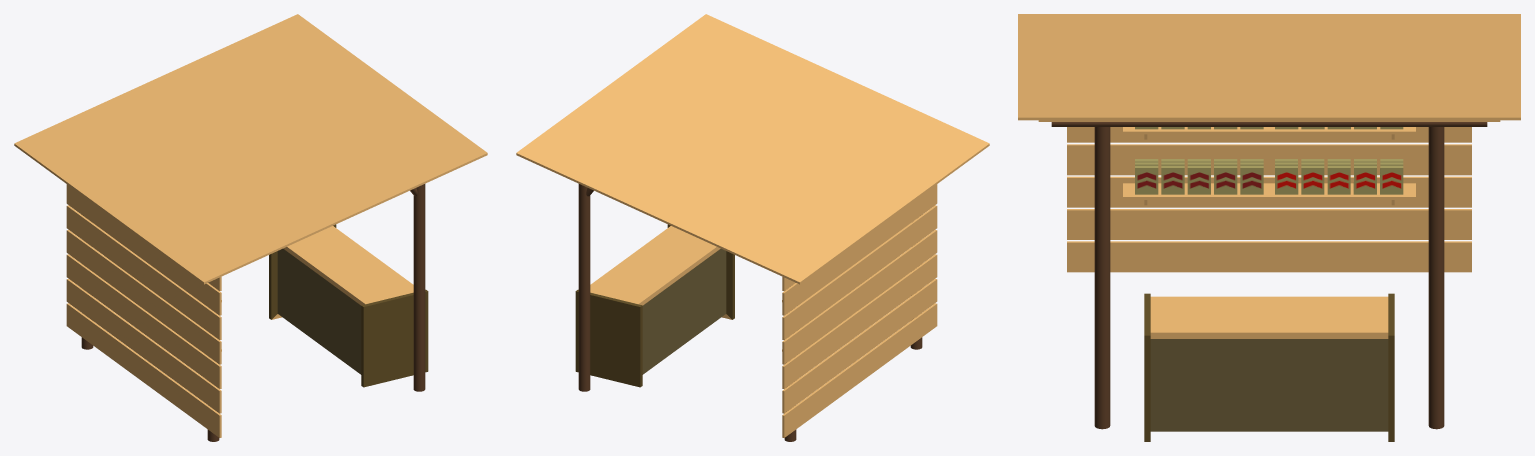
The model's file is Fertilizers_shop.fbx.
3 renders of one model, left to right at view 1: azimuth 30°, elevation 25°; view 2: azimuth 150°, elevation 25°; view 3: azimuth 270°, elevation 25°, orthographic. The views are drawn at different scales.
Parts seen in each view (by area): view 1: Fertilizers_shop_LOD0; view 2: Fertilizers_shop_LOD0; view 3: Fertilizers_shop_LOD0.
Part boxes in pixels (bbox=[...]): Fertilizers_shop_LOD0: bbox=[14, 14, 487, 441]; Fertilizers_shop_LOD0: bbox=[516, 14, 989, 441]; Fertilizers_shop_LOD0: bbox=[1018, 14, 1520, 441].
Size of what is drawn, in the model's own units: 294 by 341 by 249.
